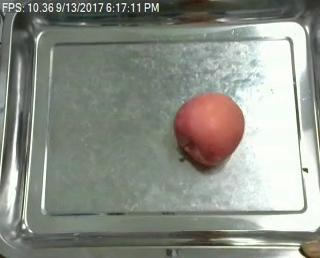apple: (173, 93, 246, 166)
